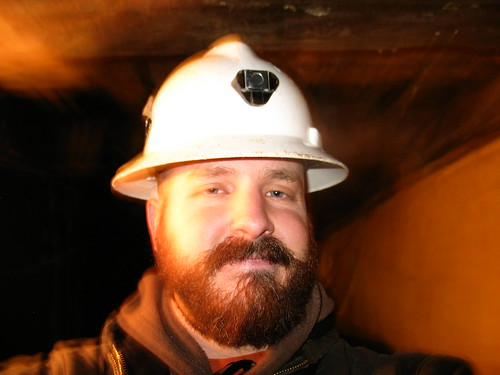person hardhat: (68, 30, 439, 375)
